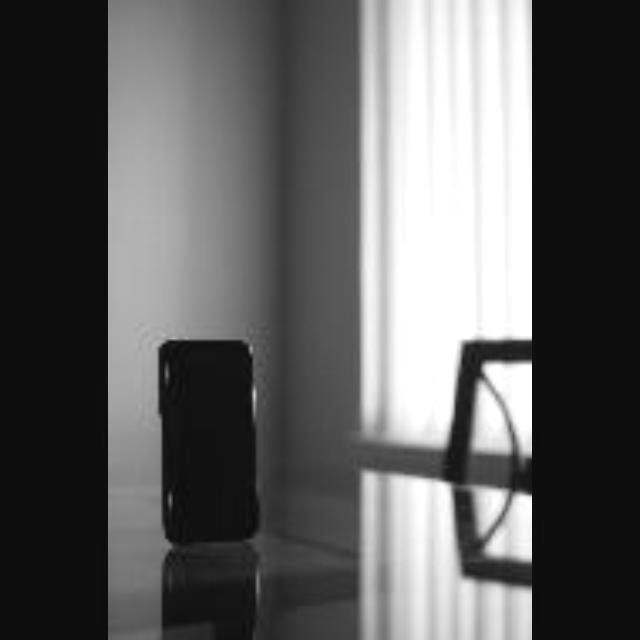fake: (159, 326, 259, 640)
